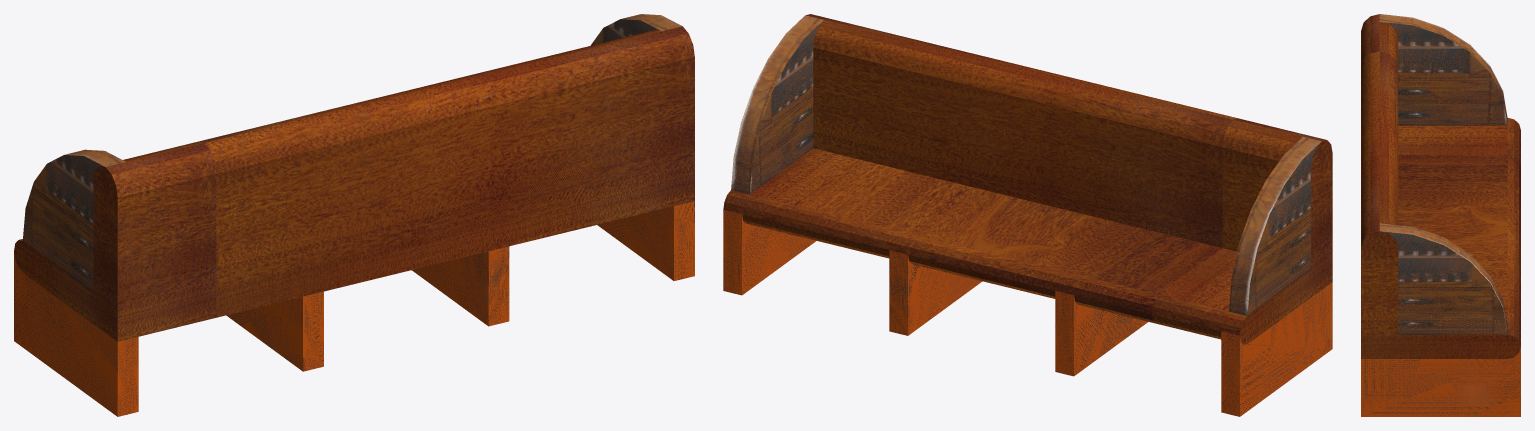
3 renders of one model, left to right at view 1: azimuth 30°, elevation 25°; view 2: azimuth 150°, elevation 25°; view 3: azimuth 270°, elevation 25°, orthographic. The views are drawn at different scales.
Visible parts, largest first — view 1: mesh1_mesh1-geometry, mesh3_mesh3-geometry, mesh2_mesh2-geometry, mesh4_mesh4-geometry; view 2: mesh1_mesh1-geometry, mesh3_mesh3-geometry, mesh4_mesh4-geometry, mesh2_mesh2-geometry; view 3: mesh1_mesh1-geometry, mesh2_mesh2-geometry, mesh4_mesh4-geometry, mesh3_mesh3-geometry.
Part boxes in pixels (<box>): mesh1_mesh1-geometry: <box>14,26,694,341</box>; mesh3_mesh3-geometry: <box>14,201,694,416</box>; mesh2_mesh2-geometry: <box>22,149,125,292</box>; mesh4_mesh4-geometry: <box>590,14,682,45</box>; mesh1_mesh1-geometry: <box>723,14,1332,344</box>; mesh3_mesh3-geometry: <box>723,210,1332,416</box>; mesh4_mesh4-geometry: <box>731,15,823,194</box>; mesh2_mesh2-geometry: <box>1229,137,1321,315</box>; mesh1_mesh1-geometry: <box>1361,14,1520,358</box>; mesh2_mesh2-geometry: <box>1379,14,1507,125</box>; mesh4_mesh4-geometry: <box>1379,223,1507,334</box>; mesh3_mesh3-geometry: <box>1361,347,1520,416</box>.
Bounding box in the file's own units: 0.8924 × 0.356 × 0.2774.
